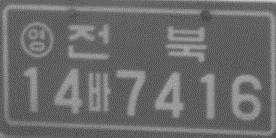1: (18, 65, 48, 113), (193, 73, 222, 120)
4: (153, 72, 184, 118), (53, 67, 82, 115)
6: (229, 73, 262, 122)
7: (114, 67, 145, 116)
바: (85, 71, 111, 113)
영: (20, 22, 53, 58)
전북_D: (66, 23, 207, 63)
